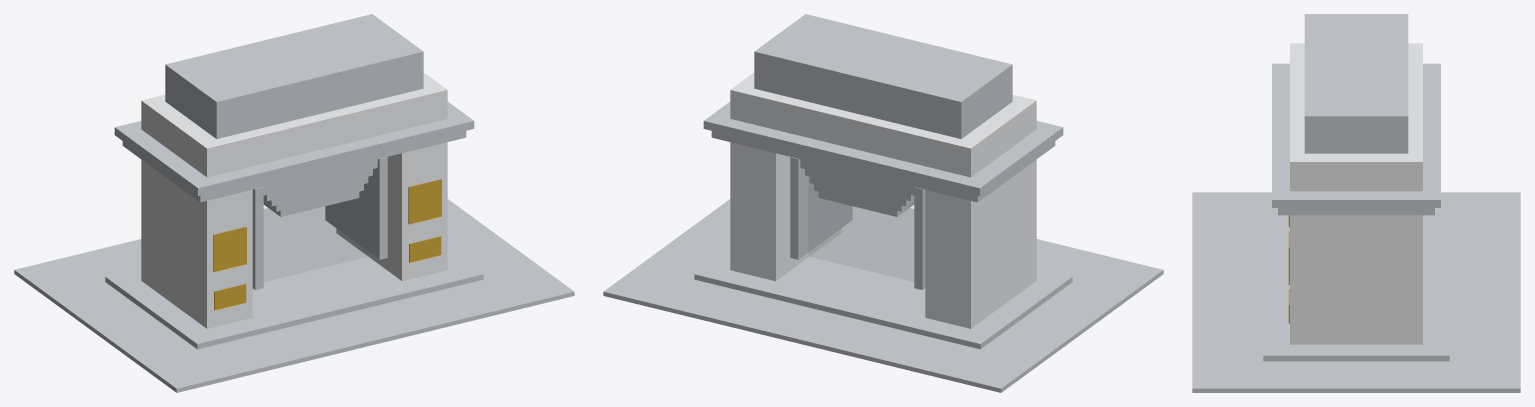
The model's file is triumphal_arch.gltf.
3 views of the same model, side by side, from view 1: azimuth 30°, elevation 25°; view 2: azimuth 150°, elevation 25°; view 3: azimuth 270°, elevation 25° (orthographic).
Bounding box in the file's own units: 157 × 92 × 111.
